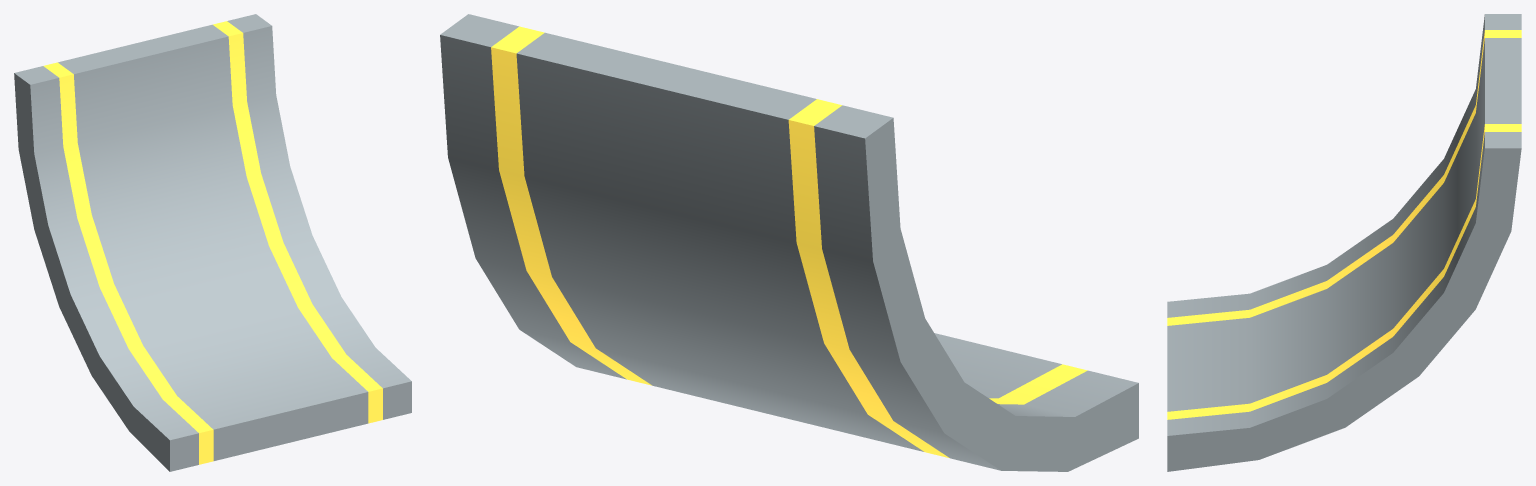
Rendered from SM_PlatformQuarterPipe_v0.fbx.
3 views of the same model, side by side, from view 1: azimuth 30°, elevation 25°; view 2: azimuth 150°, elevation 25°; view 3: azimuth 270°, elevation 25° (orthographic). The views are drawn at different scales.
Parts seen in each view (by area): view 1: SM_PlatformQuarterPipe_v0; view 2: SM_PlatformQuarterPipe_v0; view 3: SM_PlatformQuarterPipe_v0.
Boxes of the visible parts, <box> form: SM_PlatformQuarterPipe_v0: <box>14,14,411,471</box>; SM_PlatformQuarterPipe_v0: <box>440,14,1138,471</box>; SM_PlatformQuarterPipe_v0: <box>1167,14,1521,471</box>.
Bounding box in the file's own units: 1 × 1.12 × 1.12.
